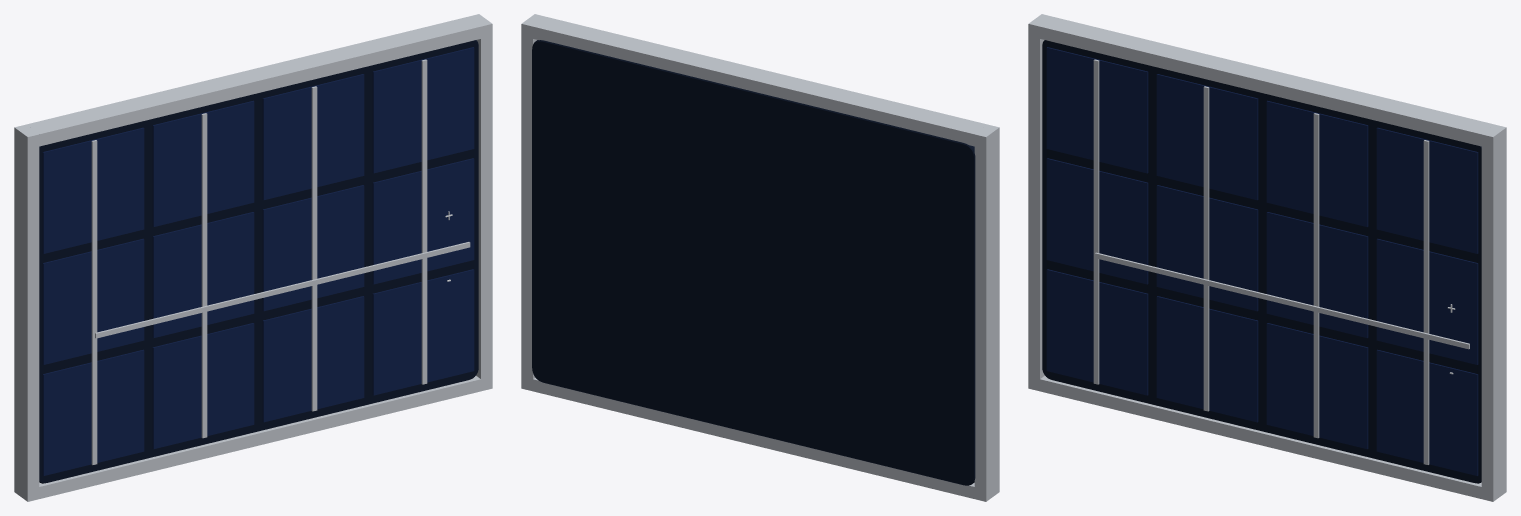
The model's file is solar_cell.glb.
3 renders of one model, left to right at view 1: azimuth 30°, elevation 25°; view 2: azimuth 150°, elevation 25°; view 3: azimuth 330°, elevation 25°, orthographic.
Visible parts, largest first — view 1: SolarCell60x45; view 2: SolarCell60x45; view 3: SolarCell60x45.
Part boxes in pixels (x1,y1,x2,y2): SolarCell60x45: [14, 14, 492, 501]; SolarCell60x45: [521, 14, 999, 501]; SolarCell60x45: [1028, 14, 1506, 501].
Size of the model in its own units: 60 by 45 by 3.32.
